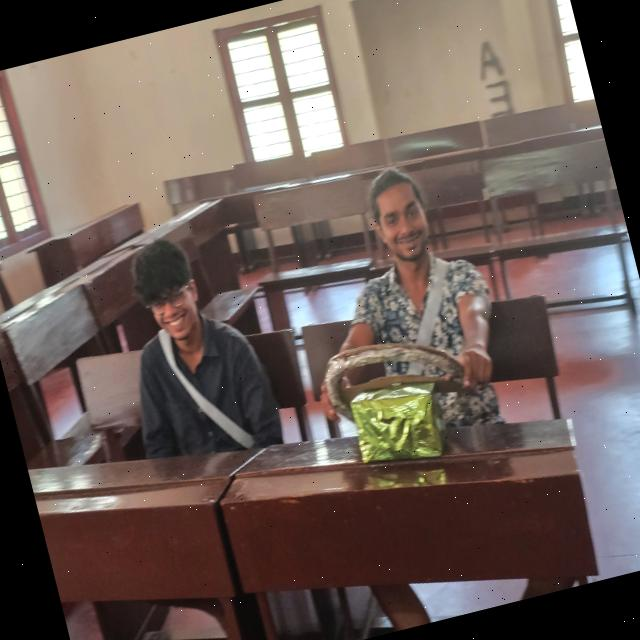seatbelt: (131, 318, 272, 468), (366, 260, 486, 378)
